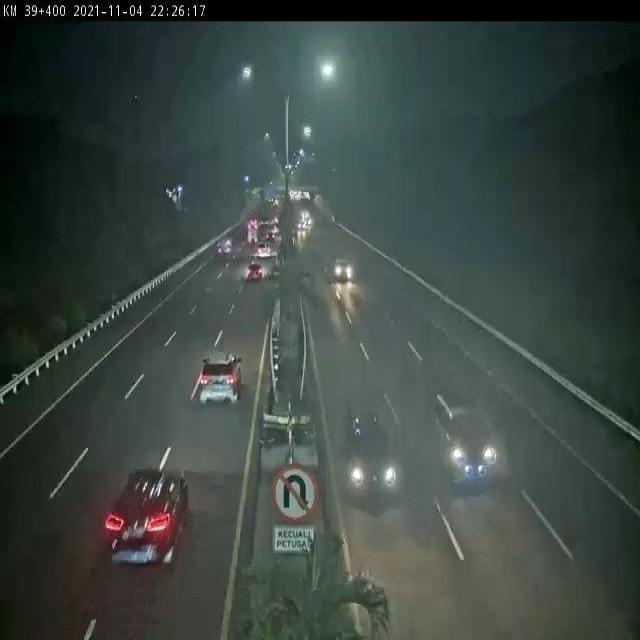car: (445, 401, 517, 508), (111, 462, 181, 566), (345, 415, 401, 513), (205, 343, 241, 420), (332, 250, 358, 290)
